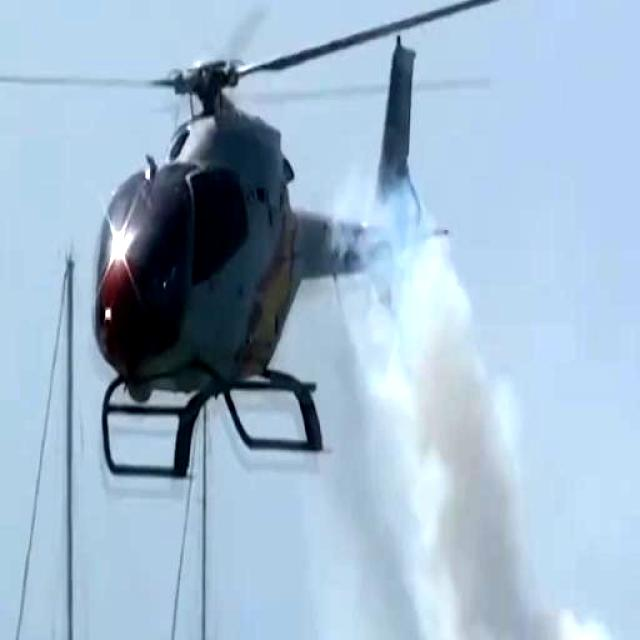drone: (0, 0, 529, 484)
